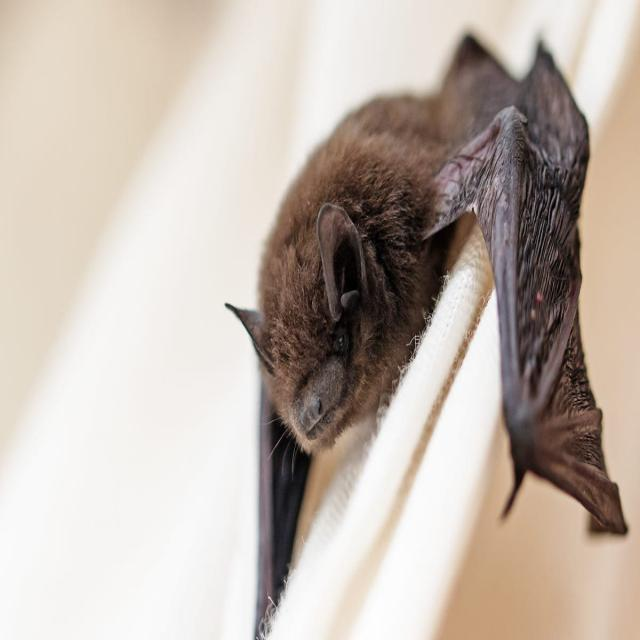Bat: (226, 49, 616, 599)
